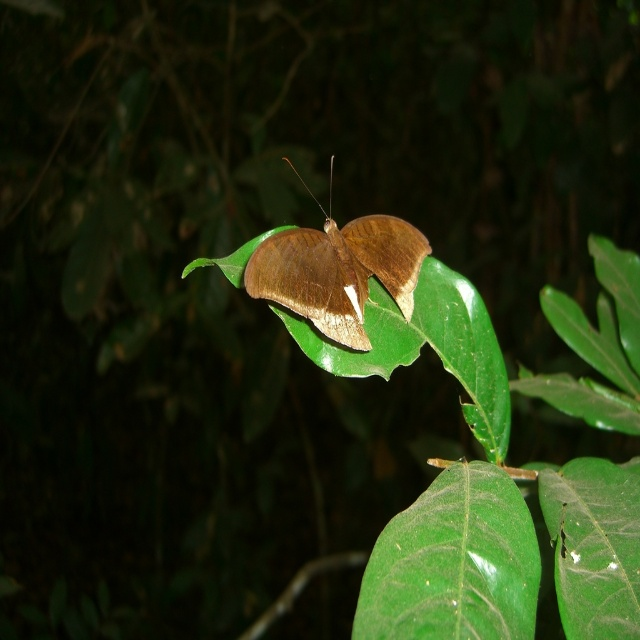Butterfly: (243, 150, 431, 353)
